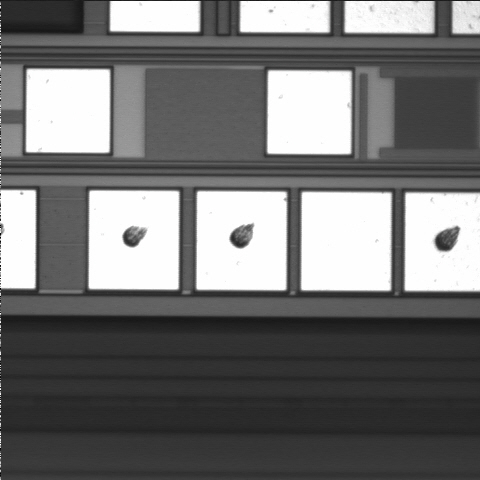pad: (197, 191, 287, 290), (301, 192, 391, 291), (89, 191, 179, 289), (26, 69, 110, 153), (267, 71, 351, 154)
